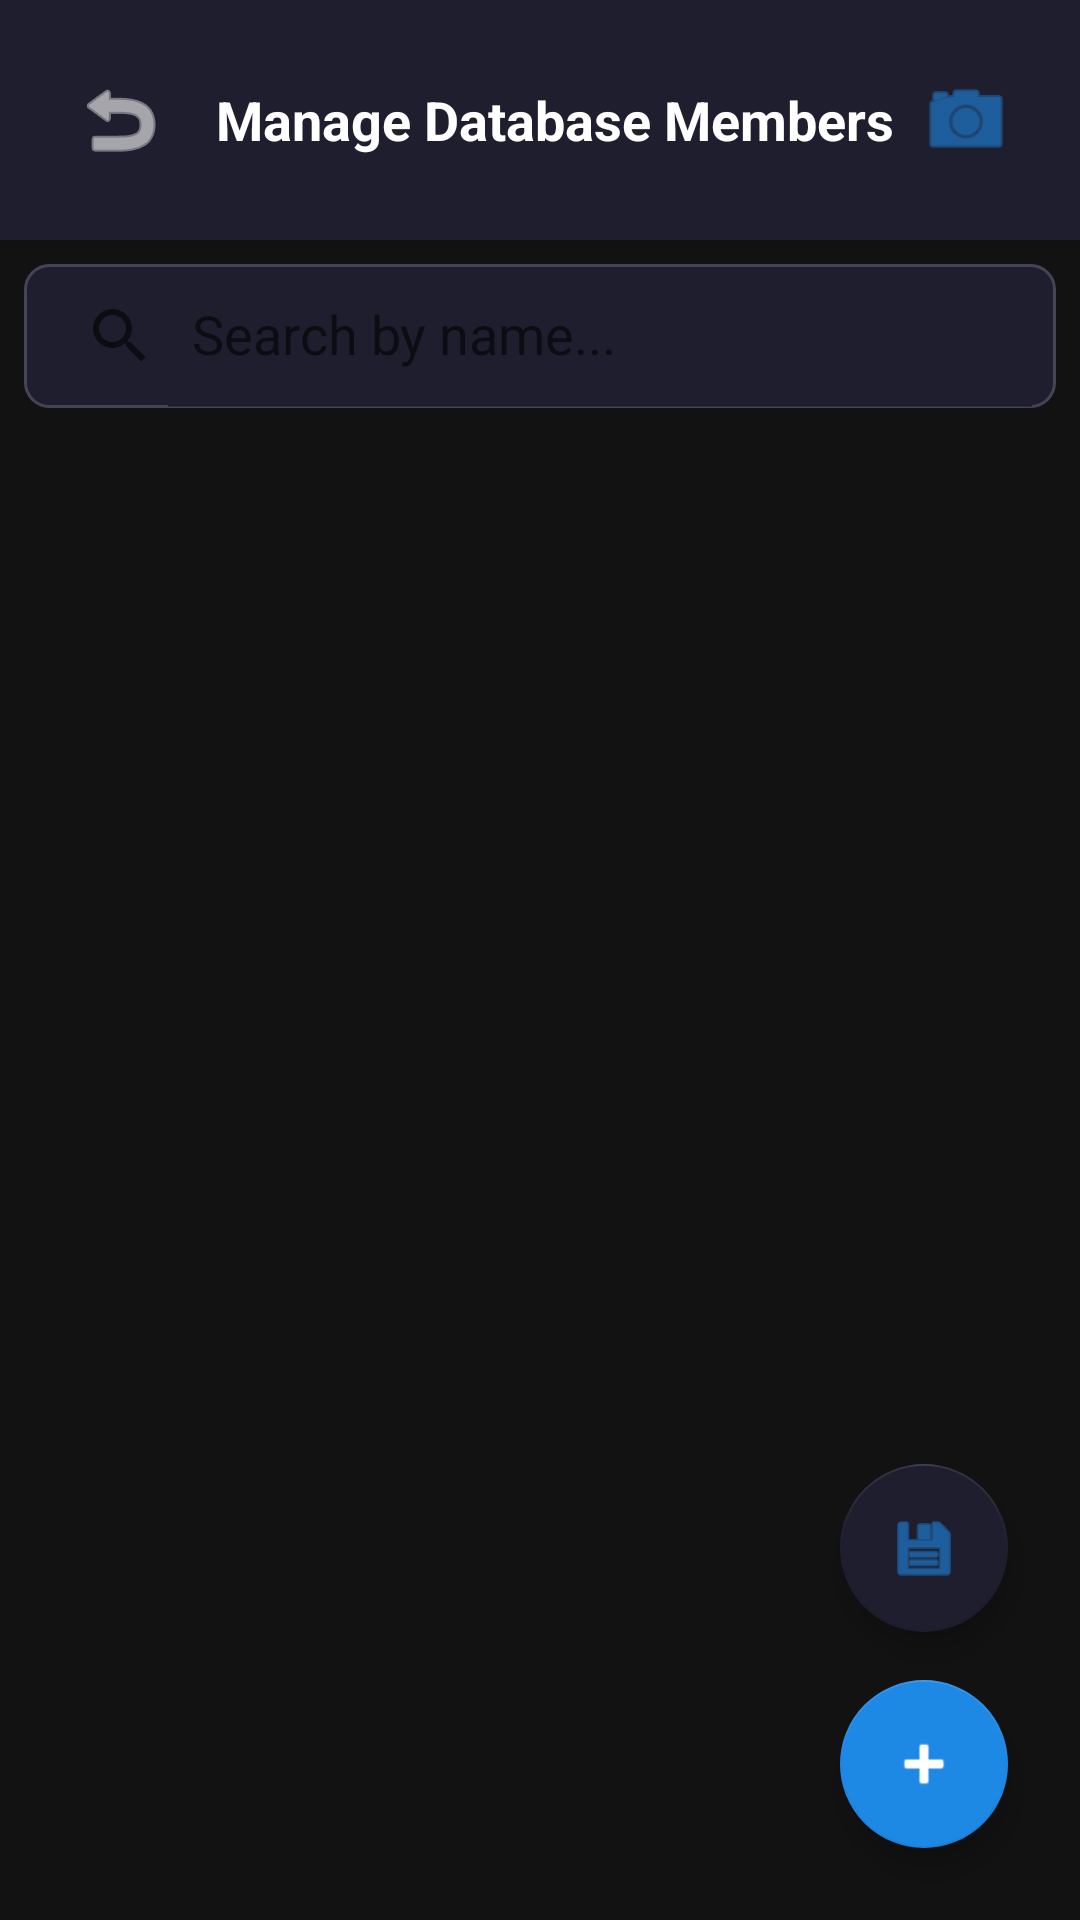

Icon bounding boxes for this 1080 × 1920 phone screenshot, format bbox(x1, y1, x2, y2):
add: bbox(840, 1680, 1008, 1848)
camera: bbox(929, 89, 1003, 148)
revert: bbox(87, 89, 156, 152)
save: bbox(840, 1464, 1008, 1632)
